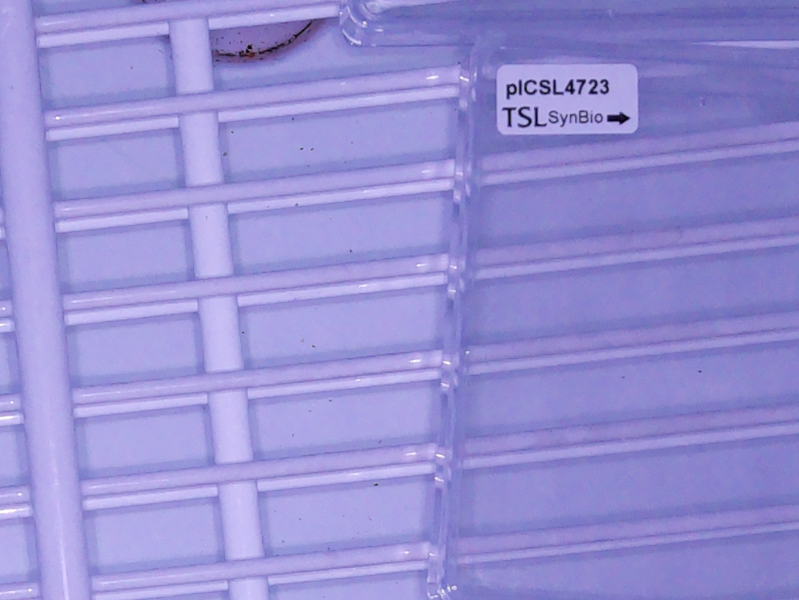plate: (431, 29, 799, 600), (342, 1, 799, 49)
